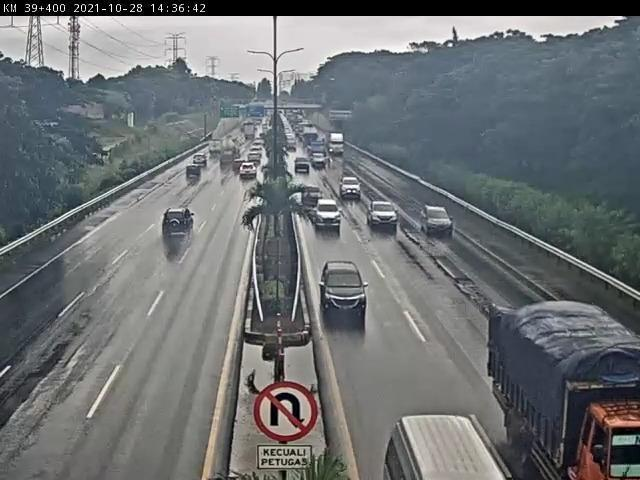bus: (453, 285, 630, 463), (396, 366, 487, 480)
car: (324, 263, 367, 325), (604, 308, 640, 361), (166, 206, 205, 252), (413, 199, 454, 228), (353, 195, 398, 221), (316, 198, 343, 225), (349, 166, 370, 197), (300, 182, 322, 201), (243, 163, 263, 183), (179, 168, 199, 183)
